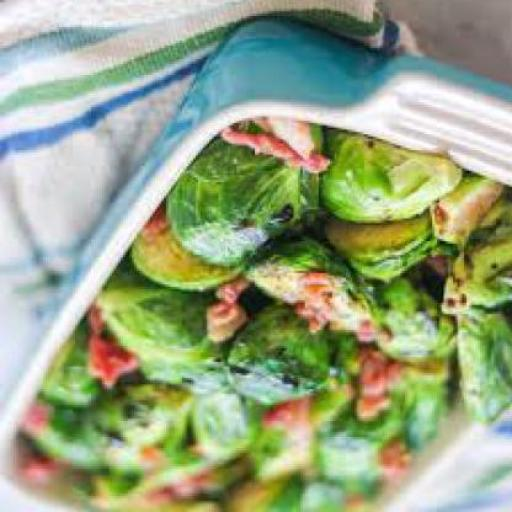biodegradable: (14, 123, 510, 511), (164, 123, 326, 276), (94, 266, 238, 396), (318, 132, 457, 228), (239, 239, 375, 337), (325, 366, 450, 457), (226, 307, 334, 408), (78, 387, 190, 473), (441, 189, 510, 321), (130, 212, 239, 295), (315, 220, 446, 284), (366, 274, 455, 364), (245, 396, 317, 485), (456, 312, 510, 430), (221, 121, 328, 177), (428, 171, 502, 250), (300, 336, 357, 432), (41, 320, 98, 412), (125, 458, 226, 509), (186, 390, 250, 470), (157, 462, 248, 508), (45, 410, 116, 466), (314, 430, 380, 489), (82, 310, 130, 390), (352, 346, 396, 423), (223, 472, 303, 510), (291, 276, 333, 332), (262, 398, 312, 441), (200, 306, 246, 348), (84, 475, 136, 511), (373, 446, 412, 488), (25, 406, 55, 460), (300, 485, 345, 511), (18, 469, 68, 491), (346, 476, 375, 510), (212, 282, 246, 310), (151, 498, 224, 511)
